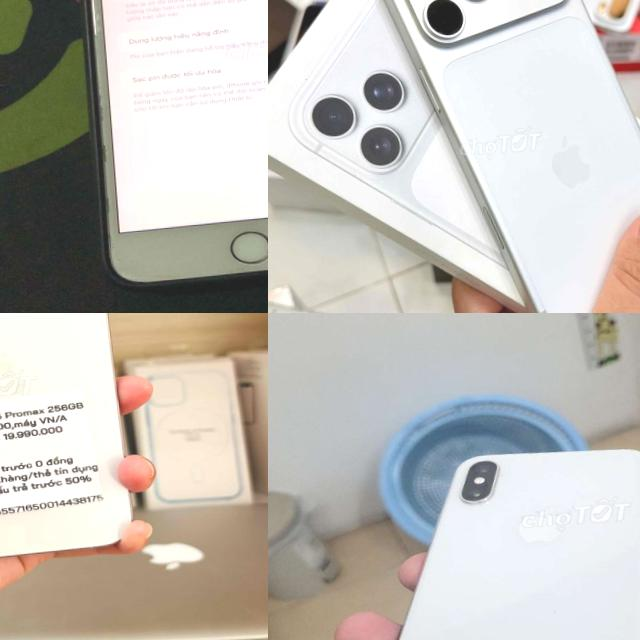gen_15: (0, 313, 160, 586)
gen_7_8: (60, 0, 268, 284)
gen_x_xs: (398, 449, 640, 640)
scratch: (379, 0, 640, 313), (92, 189, 118, 257), (94, 88, 106, 123), (95, 140, 111, 164)
